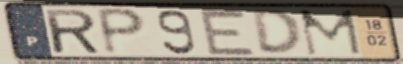9: (156, 8, 198, 55)
D: (249, 7, 305, 57)
E: (196, 8, 259, 57)
M: (297, 8, 366, 57)
P: (94, 6, 150, 57)
R: (42, 7, 104, 56)
